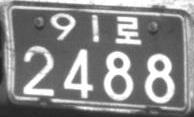1: (84, 13, 108, 42)
2: (22, 43, 55, 96)
4: (62, 48, 93, 98)
8: (143, 52, 175, 104), (102, 50, 134, 101)
9: (49, 12, 77, 40)
로: (114, 15, 142, 44)
